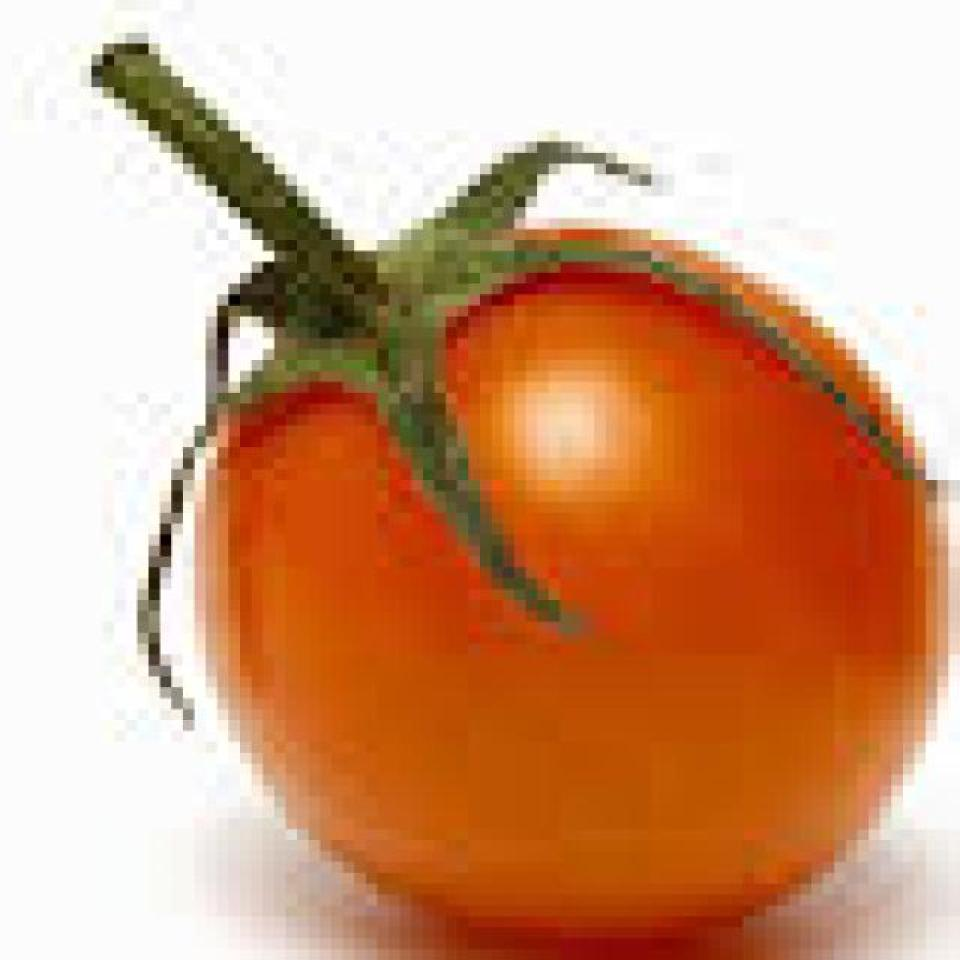Healthy: (204, 190, 948, 960)
